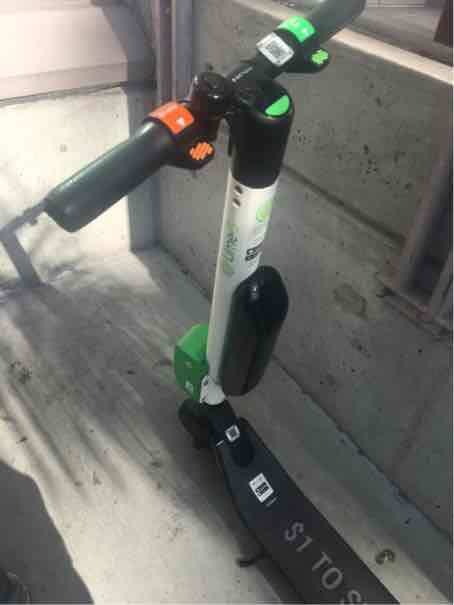scooter: (45, 15, 442, 605)
